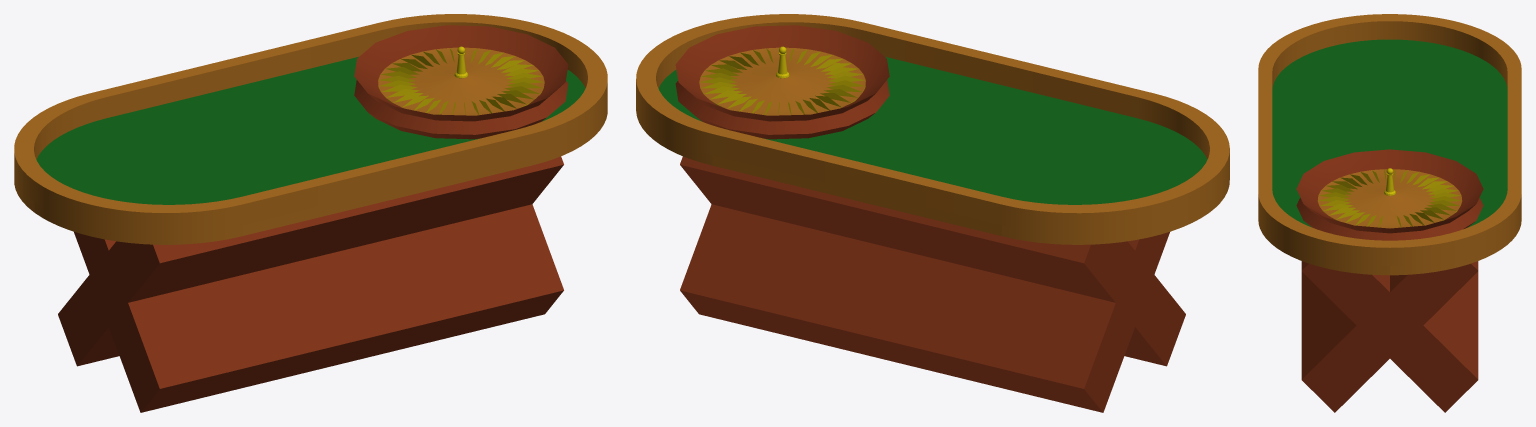
File: wheeltable.fbx
The picture shows the model from 3 angles, left to right: view 1: azimuth 30°, elevation 25°; view 2: azimuth 150°, elevation 25°; view 3: azimuth 270°, elevation 25°; orthographic projection. The views are drawn at different scales.
Visible parts, largest first — view 1: Extrude_1, Extrude, Cylinder_2_2, Cylinder; view 2: Extrude_1, Extrude, Cylinder_2_2, Cylinder; view 3: Extrude_1, Extrude, Cylinder_2_2, Cylinder.
Boxes of the visible parts, left/top/right/bottom form: Extrude_1: left=14, top=14, right=607, bottom=244; Extrude: left=58, top=156, right=563, bottom=412; Cylinder_2_2: left=354, top=25, right=568, bottom=139; Cylinder: left=378, top=47, right=544, bottom=115; Extrude_1: left=636, top=14, right=1229, bottom=244; Extrude: left=680, top=156, right=1185, bottom=412; Cylinder_2_2: left=675, top=25, right=889, bottom=139; Cylinder: left=699, top=47, right=865, bottom=115; Extrude_1: left=1258, top=14, right=1521, bottom=275; Extrude: left=1301, top=261, right=1478, bottom=412; Cylinder_2_2: left=1296, top=149, right=1483, bottom=240; Cylinder: left=1317, top=169, right=1462, bottom=228.
Bounding box in the file's own units: 273 × 121 × 130.
